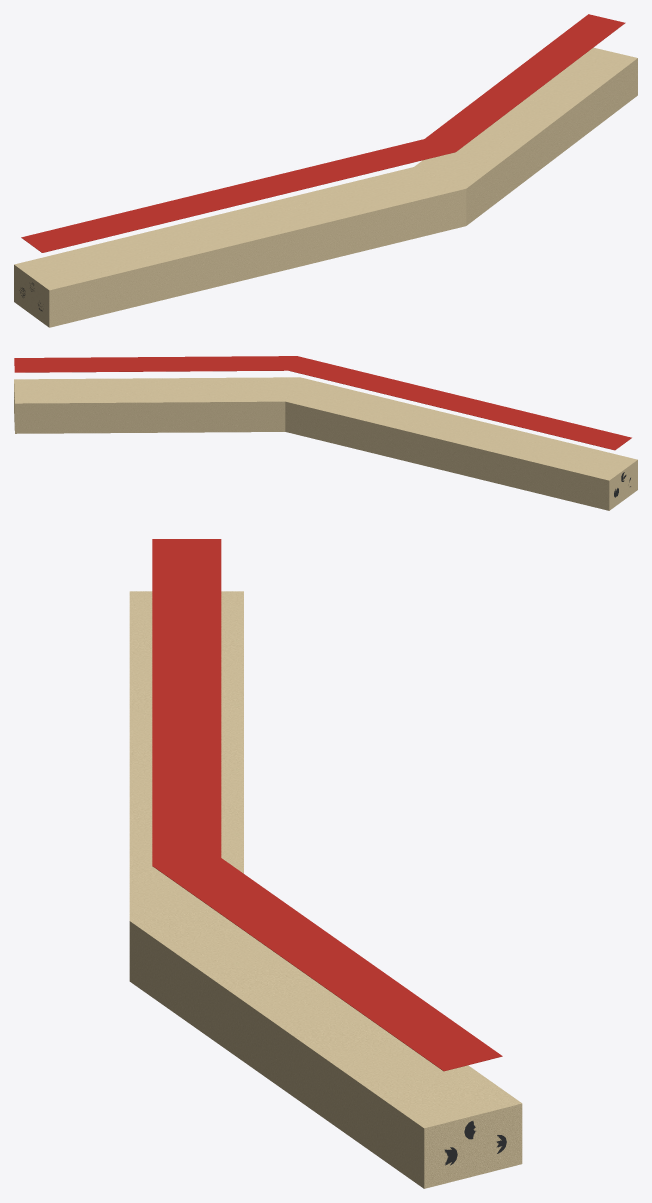
The picture shows the model from 3 angles, top to bottom: view 1: azimuth 30°, elevation 25°; view 2: azimuth 150°, elevation 25°; view 3: azimuth 270°, elevation 25°; orthographic projection. The views are drawn at different scales.
Parts seen in each view (by area): view 1: utility.trench (×2); view 2: utility.trench (×2); view 3: utility.trench (×2).
Part boxes in pixels (<box>): utility.trench (×2): <box>14,14,637,327</box>; utility.trench (×2): <box>14,356,637,510</box>; utility.trench (×2): <box>129,539,522,1188</box>.
Size of the model in its own units: 6.65 by 2.06 by 0.652.
Materials: 3 (1 with a texture image).
